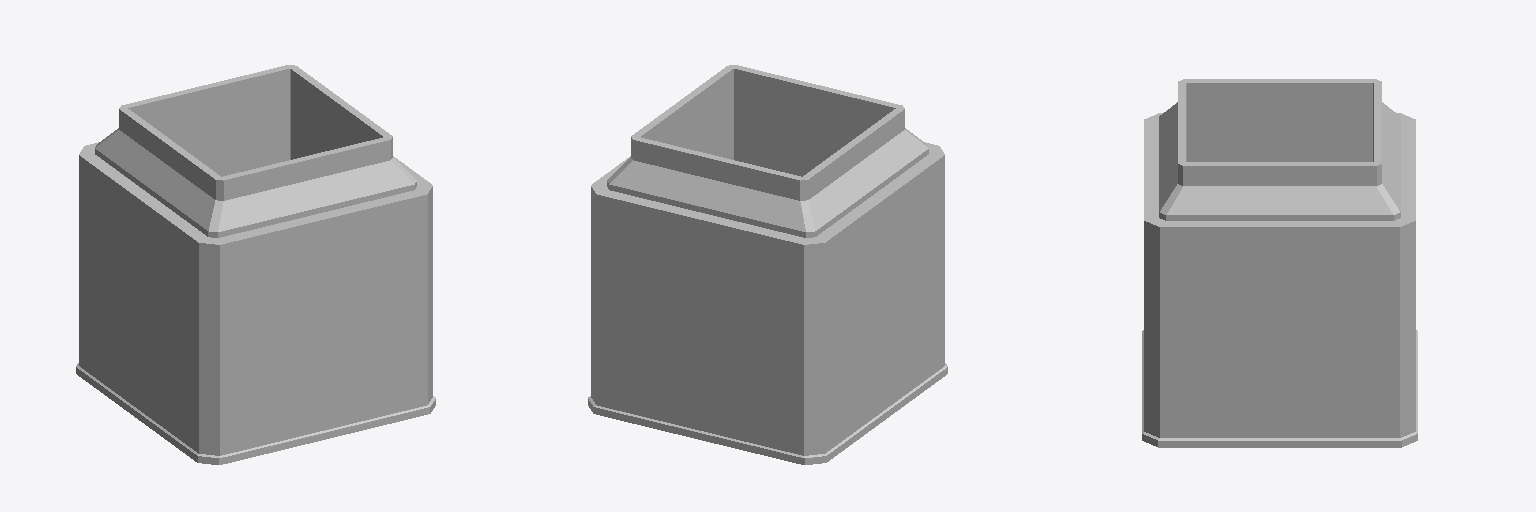
Rendered from gantry.obj.
The picture shows the model from 3 angles: view 1: azimuth 30°, elevation 25°; view 2: azimuth 150°, elevation 25°; view 3: azimuth 270°, elevation 25°; orthographic projection.
Parts seen in each view (by area): view 1: Cube; view 2: Cube; view 3: Cube.
Part boxes in pixels (bbox=[...]): Cube: bbox=[76, 65, 435, 464]; Cube: bbox=[588, 65, 947, 464]; Cube: bbox=[1142, 79, 1417, 447].
Bounding box in the file's own units: 130 × 139 × 130.